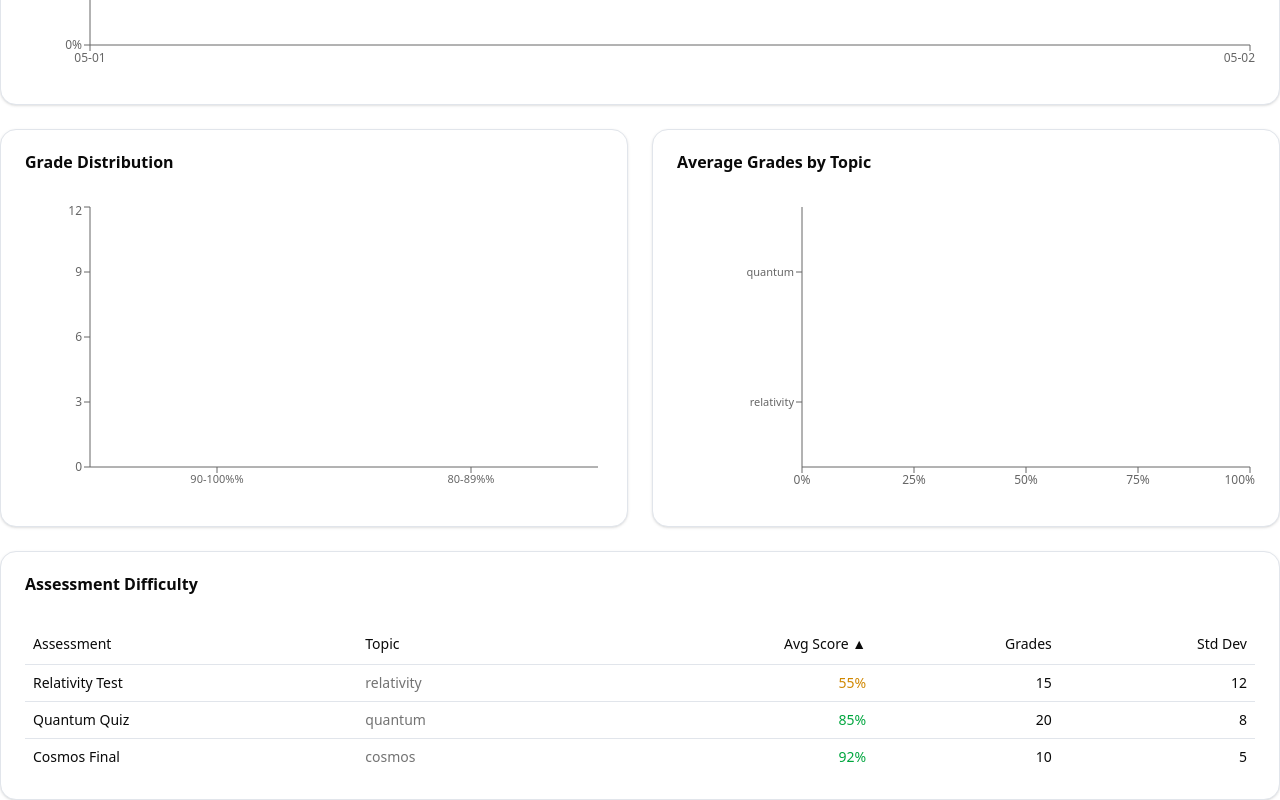
Test: AdminGradesPage › toggles sort direction on double click
The width and height of the screenshot is (1280, 800).
(page scrolled)
What coordinates should you click on to do the following:
click the column heading "Assessment"
I would click on:
 (72, 643)
Its box is [25,624,357,664].
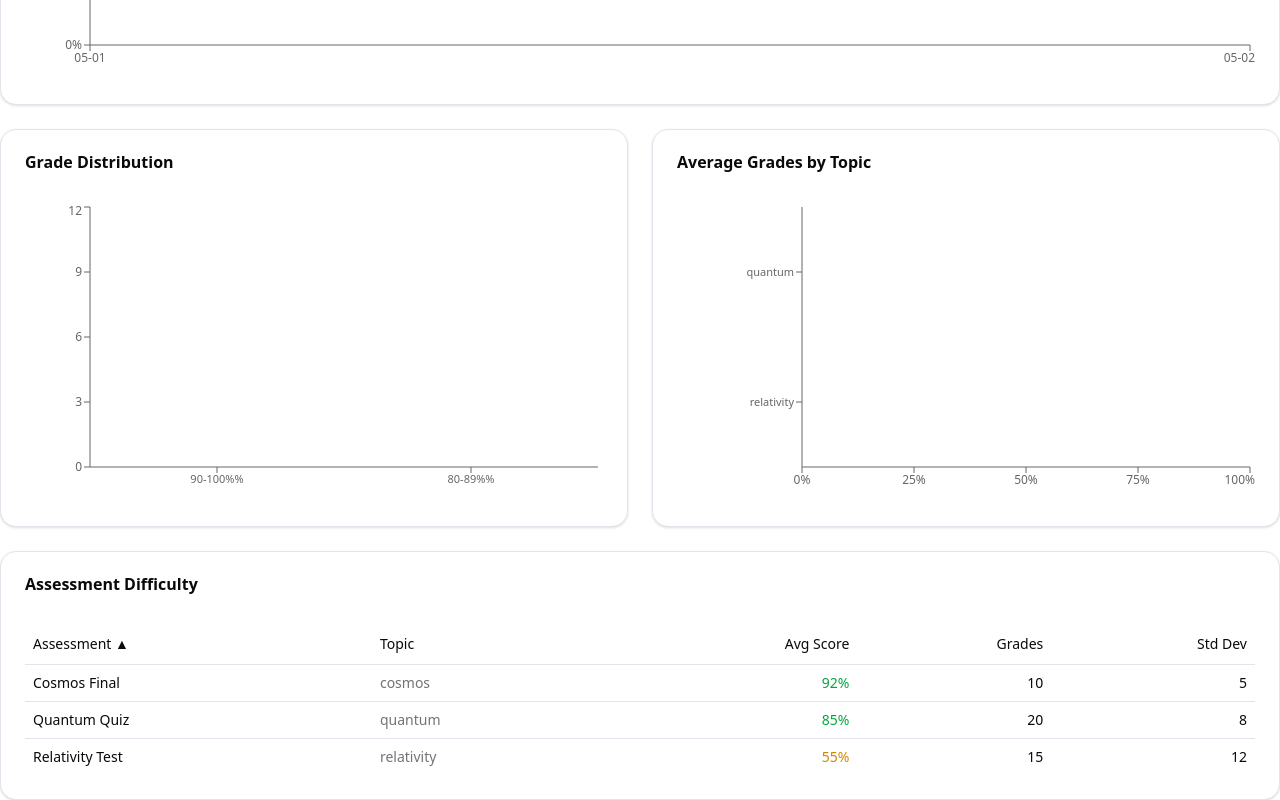
What coordinates should you click on to do the following:
click the column heading "Assessment ▲"
I would click on:
 (74, 643)
Its box is [25,624,372,664].
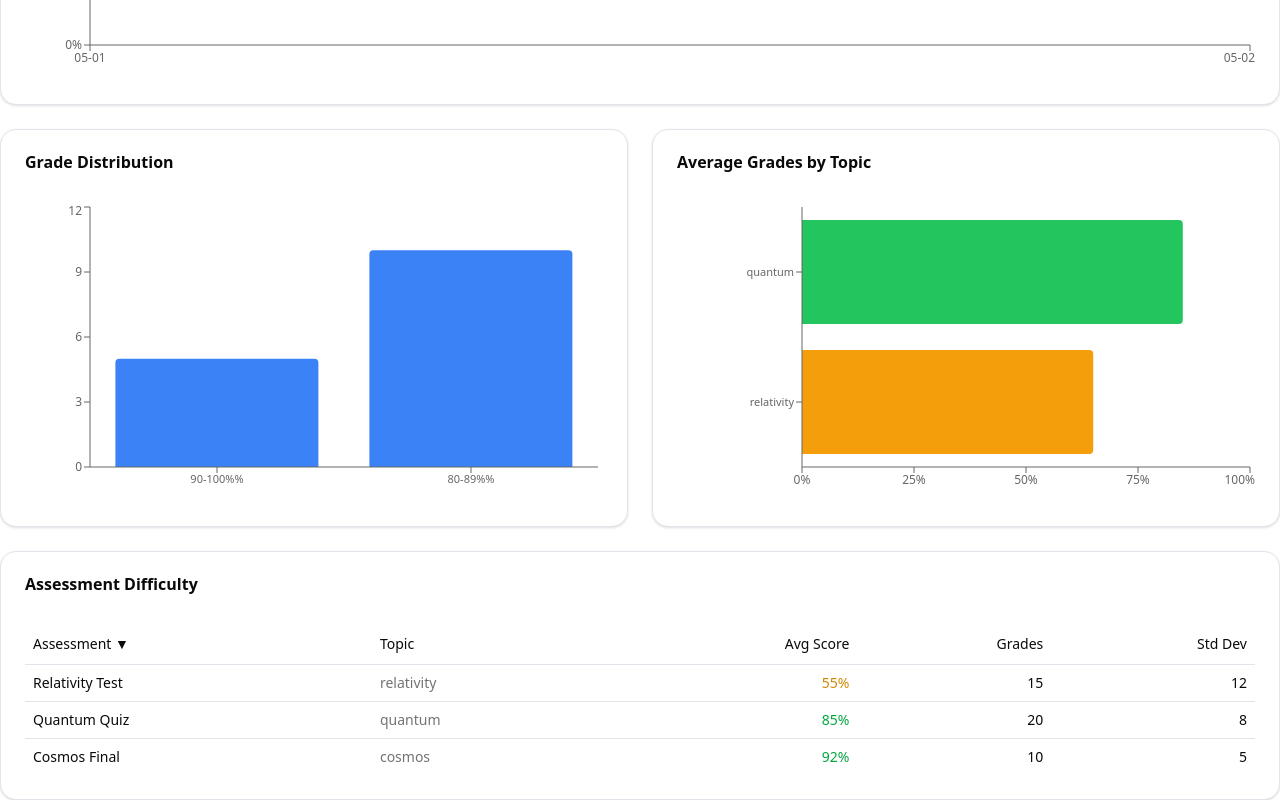
Result: the cell "Relativity Test" is shown at [25,664,372,701]
